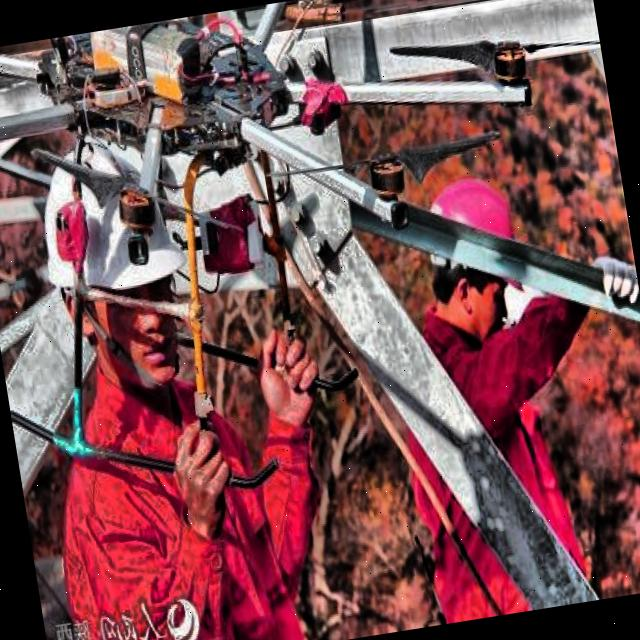helmet: (24, 122, 204, 408), (405, 154, 538, 350)
